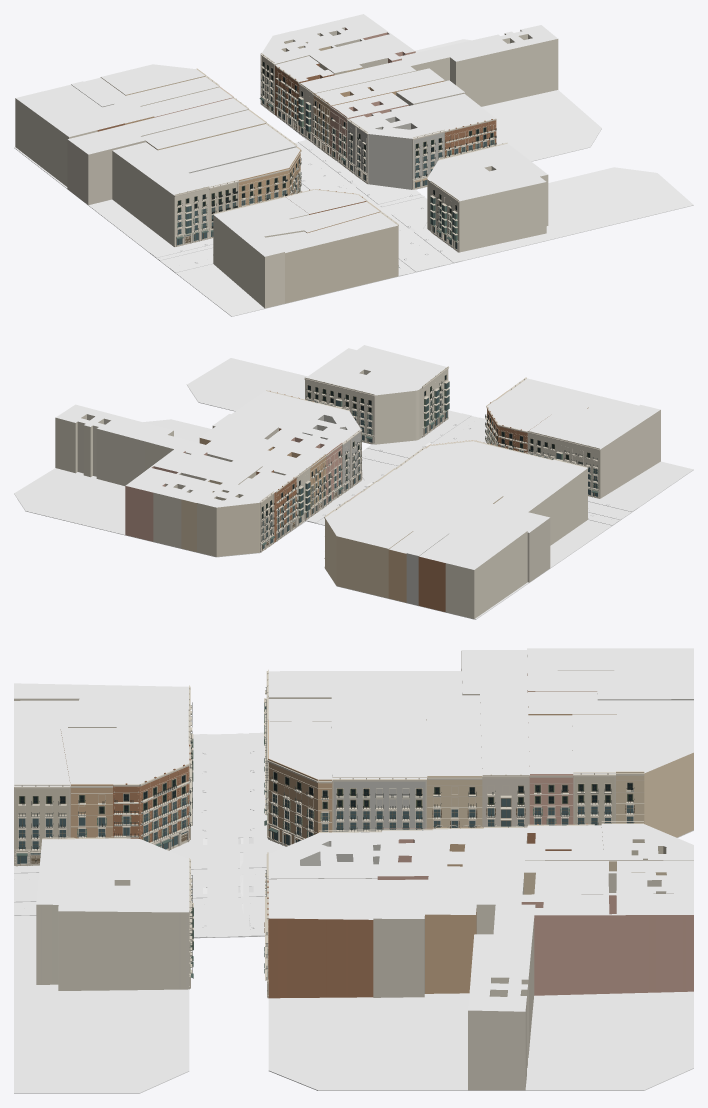
The picture shows the model from 3 angles, top to bottom: view 1: azimuth 30°, elevation 25°; view 2: azimuth 150°, elevation 25°; view 3: azimuth 270°, elevation 25°; orthographic projection. The views are drawn at different scales.
Parts seen in each view (by area): view 1: BCN_MB1_terreno, BCNgen_L-MB2-009_envolvente, BCN_MB2_terreno, BCNgen_L-MA1-001_envolvente, BCNgen_L-MB1-002_envolvente, BCN_C02_viario_BCN-PG-00, BCNgen_L-MB1-002_cubierta, BCNgen_L-MA1-003_envolvente, BCNgen_L-MB2-009_cubierta, BCNgen_L-MA2-004_cubierta, BCNgen_L-MA2-003_envolvente, BCNgen_L-MA2-006_cubierta (+42 smaller); view 2: BCN_MB2_terreno, BCNgen_L-MB2-009_envolvente, BCNgen_L-MB1-002_cubierta, BCNgen_L-MA2-010_envolvente, BCN_MB1_terreno, BCNgen_L-MB2-009_cubierta, BCNgen_L-MB2-015_envolvente, BCNgen_L-MA2-013_envolvente, BCNgen_L-MA2-004_cubierta, BCNgen_L-MA1-003_envolvente, BCNgen_L-MA1-003_cubierta, BCNgen_L-MA2-006_cubierta (+46 smaller); view 3: BCN_MB2_terreno, BCN_MB1_terreno, BCNgen_L-MB2-014_envolvente, BCN_C04_viario_BCN-PG-00, BCNgen_L-MB1-002_envolvente, BCNgen_L-MB1-002_cubierta, BCNgen_L-MB2-009_cubierta, BCNgen_L-MB2-002_envolvente, BCNgen_L-MA2-004_cubierta, BCNgen_L-MA1-003_cubierta, BCNgen_L-MA2-006_cubierta, BCNgen_L-MB2-009_envolvente (+40 smaller).
Part boxes in pixels (box(x1,y1,x2,y2)): BCN_MB1_terreno: box(423, 167, 693, 260); BCNgen_L-MB2-009_envolvente: box(314, 30, 558, 106); BCN_MB2_terreno: box(274, 39, 601, 190); BCNgen_L-MA1-001_envolvente: box(285, 225, 397, 303); BCNgen_L-MB1-002_envolvente: box(427, 166, 548, 252); BCN_C02_viario_BCN-PG-00: box(295, 139, 462, 276); BCNgen_L-MB1-002_cubierta: box(427, 143, 547, 201); BCNgen_L-MA1-003_envolvente: box(213, 214, 309, 308); BCNgen_L-MB2-009_cubierta: box(300, 25, 557, 92); BCNgen_L-MA2-004_cubierta: box(158, 124, 295, 172); BCNgen_L-MA2-003_envolvente: box(112, 151, 174, 246); BCNgen_L-MA2-006_cubierta: box(68, 98, 247, 154); BCN_MB2_terreno: box(14, 419, 364, 557); BCNgen_L-MB2-009_envolvente: box(55, 414, 285, 485); BCNgen_L-MB1-002_cubierta: box(306, 345, 446, 395); BCNgen_L-MA2-010_envolvente: box(445, 531, 527, 618); BCN_MB1_terreno: box(187, 358, 461, 445); BCNgen_L-MB2-009_cubierta: box(56, 404, 308, 475); BCNgen_L-MB2-015_envolvente: box(197, 466, 262, 556); BCNgen_L-MA2-013_envolvente: box(325, 518, 413, 598); BCNgen_L-MA2-004_cubierta: box(396, 448, 532, 496); BCNgen_L-MA1-003_envolvente: box(600, 410, 660, 498); BCNgen_L-MA1-003_cubierta: box(529, 404, 660, 449); BCNgen_L-MA2-006_cubierta: box(362, 482, 549, 532); BCN_MB2_terreno: box(268, 991, 693, 1090); BCN_MB1_terreno: box(14, 915, 189, 1093); BCNgen_L-MB2-014_envolvente: box(521, 895, 693, 995); BCN_C04_viario_BCN-PG-00: box(169, 732, 268, 937); BCNgen_L-MB1-002_envolvente: box(36, 880, 189, 990); BCNgen_L-MB1-002_cubierta: box(36, 838, 189, 912); BCNgen_L-MB2-009_cubierta: box(468, 827, 535, 1011); BCNgen_L-MB2-002_envolvente: box(268, 918, 373, 998); BCNgen_L-MA2-004_cubierta: box(331, 697, 426, 778); BCNgen_L-MA1-003_cubierta: box(14, 683, 188, 741); BCNgen_L-MA2-006_cubierta: box(461, 650, 529, 776); BCNgen_L-MB2-009_envolvente: box(468, 836, 535, 1090).
Size of the model in its own units: 228 by 28.22 by 180.
Materials: 26 (1 with a texture image).
